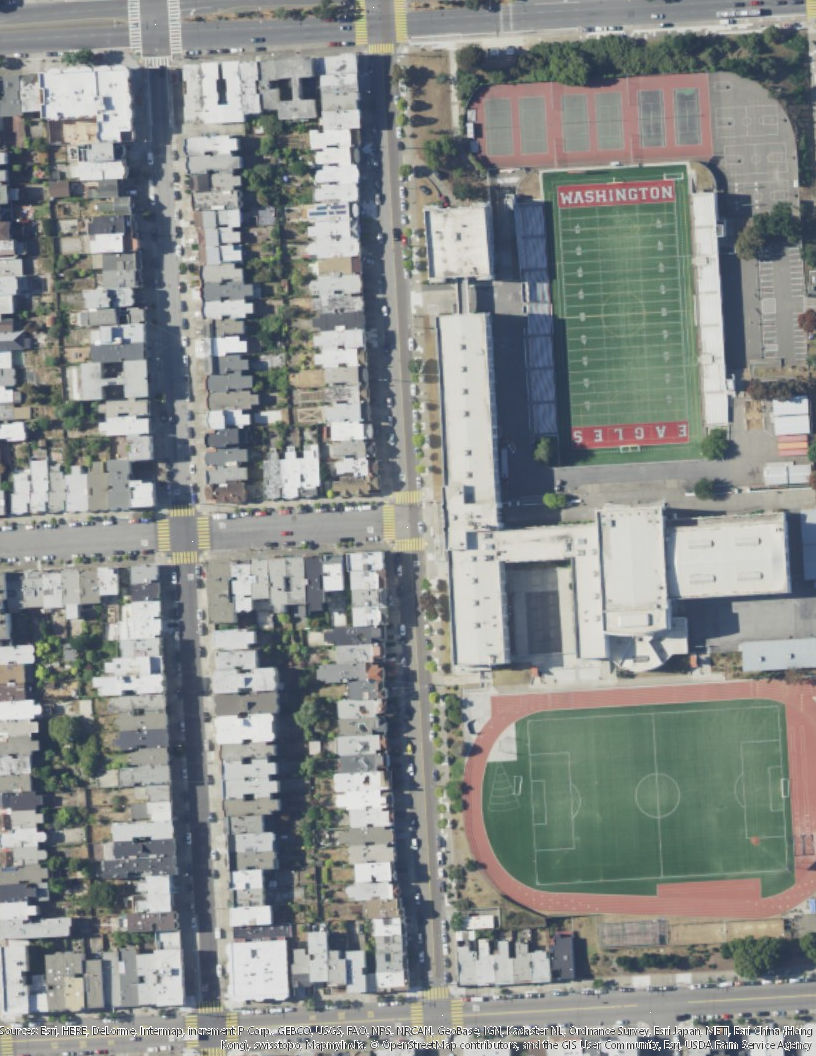zebracross: (165, 1, 184, 55), (125, 1, 144, 55), (393, 1, 410, 45), (354, 1, 369, 43), (380, 504, 396, 542), (154, 517, 170, 551), (224, 1013, 241, 1041), (198, 513, 210, 552), (394, 537, 424, 552), (185, 1015, 199, 1047), (421, 985, 452, 999), (395, 490, 422, 506), (450, 999, 465, 1027), (365, 43, 397, 56), (169, 503, 196, 518), (409, 999, 424, 1025), (142, 55, 171, 68), (197, 1001, 224, 1014), (171, 552, 197, 564), (1, 1034, 14, 1055), (202, 1047, 227, 1056)
